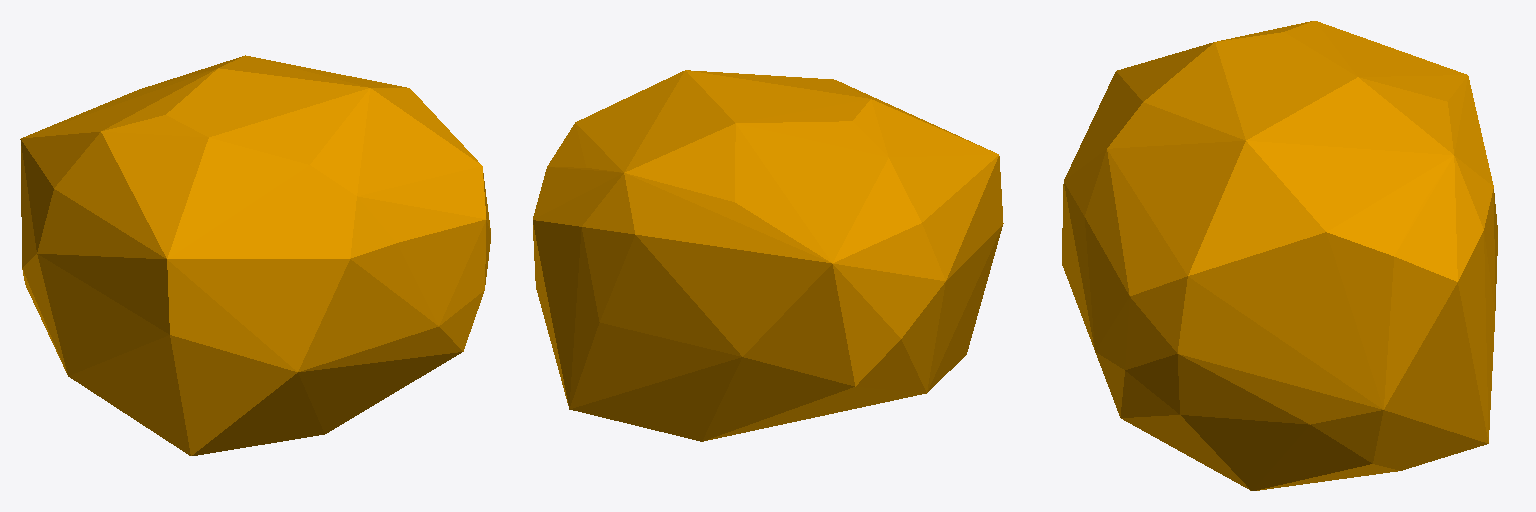
URDF robot description (063_013_3529):
<?xml version="1.0"?>
<robot name="063_013_3529">
  <link name="link">
    <contact>
      <lateral_friction value="0.6"/>
    </contact>
    <inertial>
      <mass value = "0.4673611821193432"/>
      <inertia ixx="0.0002275353627399608" ixy="7.769030048030478e-06" ixz="-9.74687367016992e-06" iyy="0.00026789763788886777" iyz="-5.985234556685884e-07" izz="0.0003032028400957883" />
    </inertial>
    <visual name="visual">
      <geometry>
        <mesh filename="063_013_3529.obj"/>
      </geometry>
    </visual>
    <collision name="collision">
      <geometry>
        <mesh filename="063_013_3529.obj"/>
      </geometry>
    </collision>
  </link>
</robot>

--- Render facts (derived) ---
3 views of the same robot in one strip: view 1: azimuth 30°, elevation 25°; view 2: azimuth 150°, elevation 25°; view 3: azimuth 270°, elevation 25° (orthographic).
Model 063_013_3529 with 1 links and 0 joints (none), rooted at link, posed every joint at zero.
Links seen in each view (by area): view 1: link; view 2: link; view 3: link.
Boxes of the visible links, x1,y1,x2,y2 form: link: (20, 55, 490, 455); link: (533, 70, 1003, 441); link: (1062, 21, 1497, 490).
Size in the robot's own frame: 0.0801 by 0.0698 by 0.0594 metres.
1 mesh visuals loaded from 1 distinct referenced files (1 OBJ).
